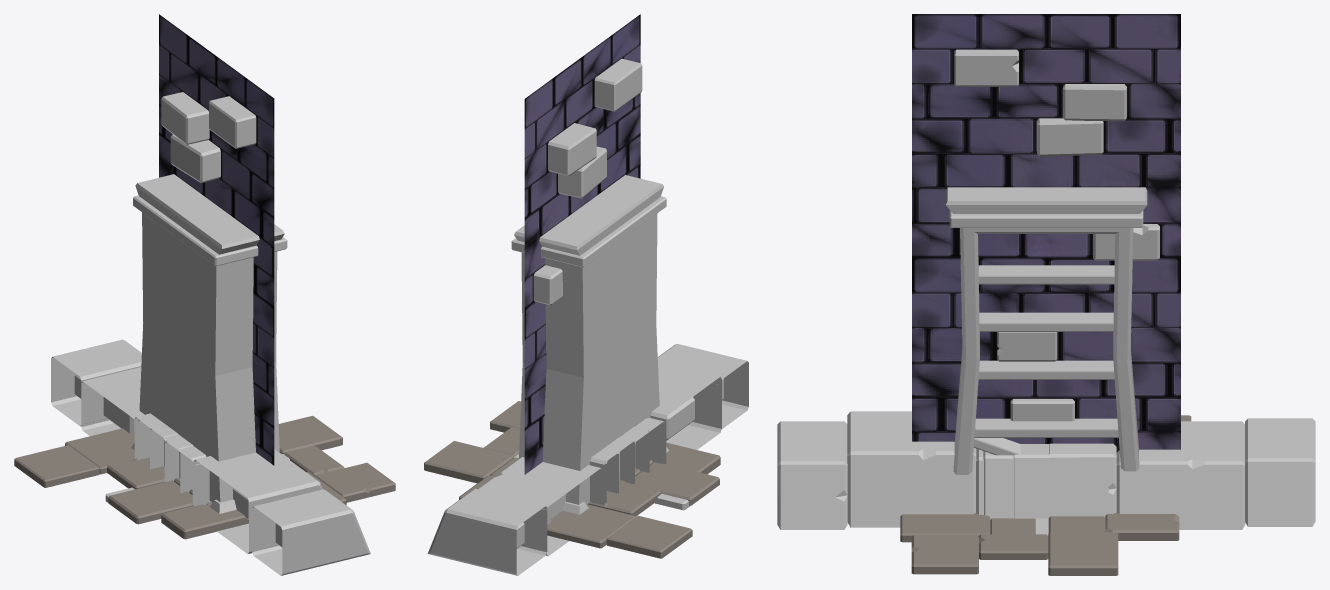
Rendered from hard gamez.fbx.
The picture shows the model from 3 angles, left to right: view 1: azimuth 30°, elevation 25°; view 2: azimuth 150°, elevation 25°; view 3: azimuth 270°, elevation 25°; orthographic projection. The views are drawn at different scales.
Visible parts, largest first — view 1: Closet_01, Wall_01, Step_Bot_01, Floor_01, Step_Top_01, Step_Bot_solo_02, Step_Bot_solo_01; view 2: Closet_01, Wall_01, Step_Bot_01, Floor_01, Step_Top_01, Step_Bot_solo_02, Step_Bot_solo_01; view 3: Wall_01, Step_Bot_01, Closet_01, Floor_01, Step_Bot_solo_02, Step_Bot_solo_01, Closet_02.
Part boxes in pixels (bbox=[...]): Closet_01: bbox=[131, 174, 287, 513]; Wall_01: bbox=[159, 14, 274, 465]; Step_Bot_01: bbox=[51, 339, 370, 575]; Floor_01: bbox=[14, 415, 395, 539]; Step_Top_01: bbox=[74, 374, 341, 563]; Step_Bot_solo_02: bbox=[150, 428, 193, 492]; Step_Bot_solo_01: bbox=[137, 419, 206, 502]; Closet_01: bbox=[511, 175, 669, 514]; Wall_01: bbox=[524, 14, 642, 474]; Step_Bot_01: bbox=[427, 343, 748, 575]; Floor_01: bbox=[424, 401, 720, 558]; Step_Top_01: bbox=[516, 378, 723, 548]; Step_Bot_solo_02: bbox=[606, 427, 649, 493]; Step_Bot_solo_01: bbox=[604, 418, 662, 502]; Wall_01: bbox=[912, 14, 1180, 452]; Step_Bot_01: bbox=[777, 411, 1315, 529]; Closet_01: bbox=[945, 187, 1147, 474]; Floor_01: bbox=[900, 415, 1191, 575]; Step_Bot_solo_02: bbox=[1013, 444, 1078, 518]; Step_Bot_solo_01: bbox=[983, 451, 1109, 519]; Closet_02: bbox=[974, 438, 1020, 455].
Bounding box in the file's own units: 268 × 405 × 400.
